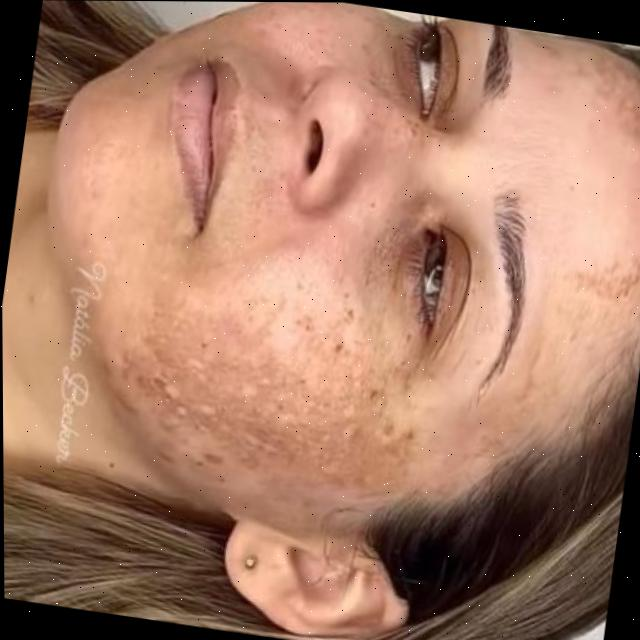Melasma: (86, 271, 434, 510), (522, 35, 640, 149), (559, 240, 640, 317)
